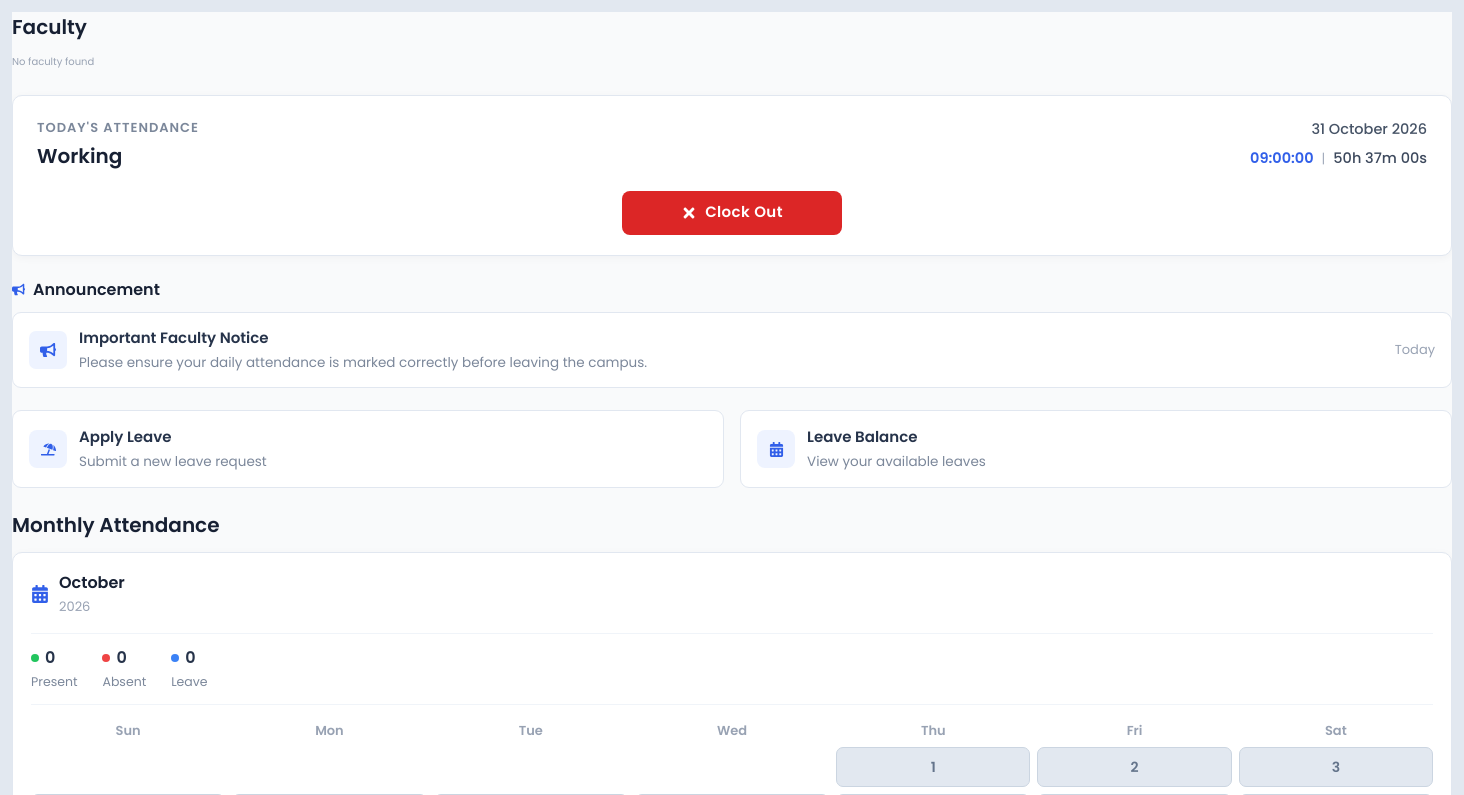
Scenario: Attendance Punch Workflow & States (HomeTab) › User Interactions and API Handling › executes punch-out flow and transitions the card to the completed state
This screenshot has width=1464, height=795.
Click the button "Clock Out" at (732, 212), box [622,190,842,234]
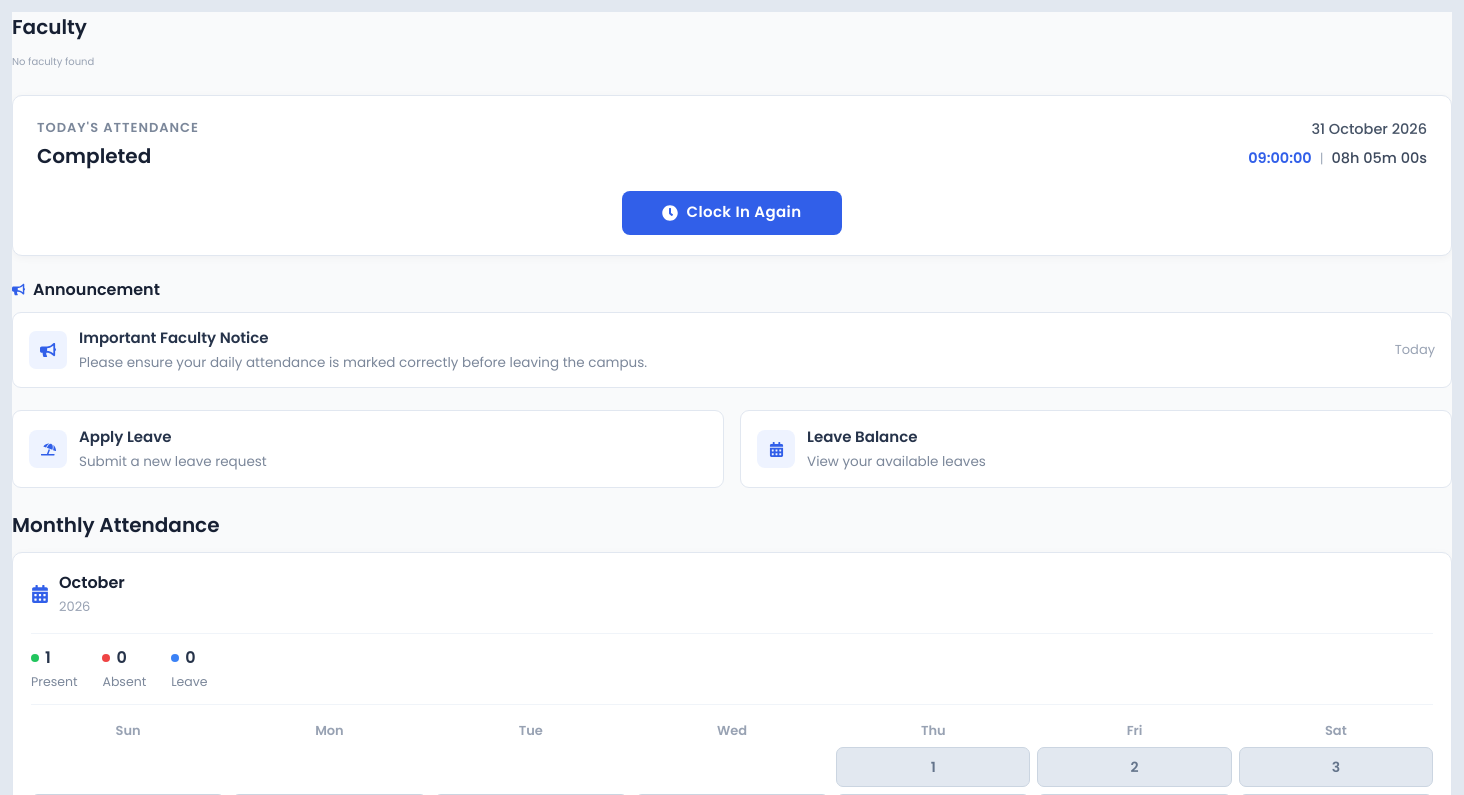
Now the heading "Completed" is shown, box [37,142,151,170]
